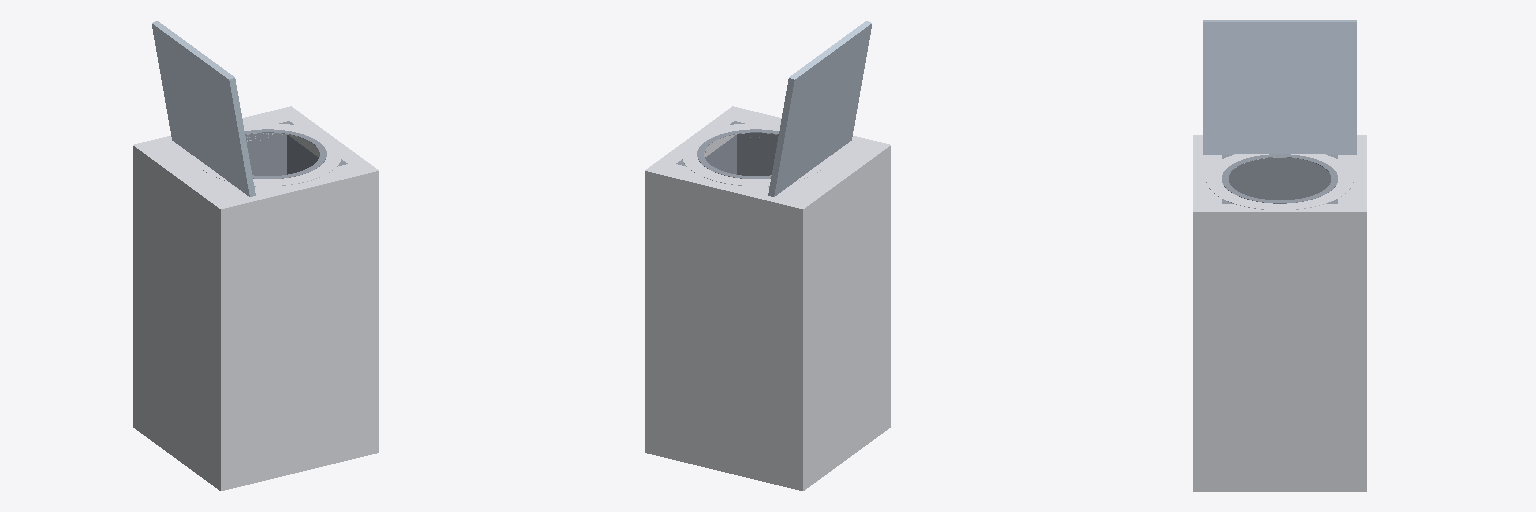
The robot description file, URDF, robot "washer":
<?xml version="1.0"?>
<!-- generated by tools/gen_washer.py; vertical washer, front=+x, lid open and fixed -->
<robot name="washer">
  <material name="body"><color rgba="0.92 0.93 0.95 1"/></material>
  <material name="panel"><color rgba="0.25 0.3 0.4 1"/></material>
  <material name="tub"><color rgba="0.65 0.68 0.72 1"/></material>
  <material name="lid"><color rgba="0.8 0.85 0.9 0.9"/></material>
  <link name="washer_body">
    <inertial><origin xyz="-0.04 0 0.45" rpy="0 0 0"/><mass value="30"/><inertia ixx="2.67525" ixy="0" ixz="0" iyy="2.72725" iyz="0" izz="1.3525"/></inertial>
    <visual><origin xyz="-0.04 0 0.15" rpy="0 0 0"/><geometry><box size="0.53 0.51 0.3"/></geometry><material name="body"/></visual>
    <collision><origin xyz="-0.04 0 0.15" rpy="0 0 0"/><geometry><box size="0.53 0.51 0.3"/></geometry></collision>
    <visual><origin xyz="0.215 0 0.6" rpy="0 0 0"/><geometry><box size="0.02 0.51 0.6"/></geometry><material name="body"/></visual>
    <collision><origin xyz="0.215 0 0.6" rpy="0 0 0"/><geometry><box size="0.02 0.51 0.6"/></geometry></collision>
    <visual><origin xyz="-0.295 0 0.6" rpy="0 0 0"/><geometry><box size="0.02 0.51 0.6"/></geometry><material name="body"/></visual>
    <collision><origin xyz="-0.295 0 0.6" rpy="0 0 0"/><geometry><box size="0.02 0.51 0.6"/></geometry></collision>
    <visual><origin xyz="-0.04 0.245 0.6" rpy="0 0 0"/><geometry><box size="0.49 0.02 0.6"/></geometry><material name="body"/></visual>
    <collision><origin xyz="-0.04 0.245 0.6" rpy="0 0 0"/><geometry><box size="0.49 0.02 0.6"/></geometry></collision>
    <visual><origin xyz="-0.04 -0.245 0.6" rpy="0 0 0"/><geometry><box size="0.49 0.02 0.6"/></geometry><material name="body"/></visual>
    <collision><origin xyz="-0.04 -0.245 0.6" rpy="0 0 0"/><geometry><box size="0.49 0.02 0.6"/></geometry></collision>
    <visual><origin xyz="0.16 0 0.6" rpy="0 0 0"/><geometry><box size="0.02 0.34 0.6"/></geometry><material name="tub"/></visual>
    <collision><origin xyz="0.16 0 0.6" rpy="0 0 0"/><geometry><box size="0.02 0.34 0.6"/></geometry></collision>
    <visual><origin xyz="-0.16 0 0.6" rpy="0 0 0"/><geometry><box size="0.02 0.34 0.6"/></geometry><material name="tub"/></visual>
    <collision><origin xyz="-0.16 0 0.6" rpy="0 0 0"/><geometry><box size="0.02 0.34 0.6"/></geometry></collision>
    <visual><origin xyz="0 0.16 0.6" rpy="0 0 0"/><geometry><box size="0.3 0.02 0.6"/></geometry><material name="tub"/></visual>
    <collision><origin xyz="0 0.16 0.6" rpy="0 0 0"/><geometry><box size="0.3 0.02 0.6"/></geometry></collision>
    <visual><origin xyz="0 -0.16 0.6" rpy="0 0 0"/><geometry><box size="0.3 0.02 0.6"/></geometry><material name="tub"/></visual>
    <collision><origin xyz="0 -0.16 0.6" rpy="0 0 0"/><geometry><box size="0.3 0.02 0.6"/></geometry></collision>
    <visual><origin xyz="0.1875 0 0.885" rpy="0 0 0"/><geometry><box size="0.075 0.51 0.03"/></geometry><material name="body"/></visual>
    <collision><origin xyz="0.1875 0 0.885" rpy="0 0 0"/><geometry><box size="0.075 0.51 0.03"/></geometry></collision>
    <visual><origin xyz="-0.2275 0 0.885" rpy="0 0 0"/><geometry><box size="0.155 0.51 0.03"/></geometry><material name="body"/></visual>
    <collision><origin xyz="-0.2275 0 0.885" rpy="0 0 0"/><geometry><box size="0.155 0.51 0.03"/></geometry></collision>
    <visual><origin xyz="0 0.2025 0.885" rpy="0 0 0"/><geometry><box size="0.3 0.105 0.03"/></geometry><material name="body"/></visual>
    <collision><origin xyz="0 0.2025 0.885" rpy="0 0 0"/><geometry><box size="0.3 0.105 0.03"/></geometry></collision>
    <visual><origin xyz="0 -0.2025 0.885" rpy="0 0 0"/><geometry><box size="0.3 0.105 0.03"/></geometry><material name="body"/></visual>
    <collision><origin xyz="0 -0.2025 0.885" rpy="0 0 0"/><geometry><box size="0.3 0.105 0.03"/></geometry></collision>
    <visual><origin xyz="0.18257 0 0.9005" rpy="0 0 0"/><geometry><box size="0.06513 0.03764 0.001"/></geometry><material name="body"/></visual>
    <visual><origin xyz="0.17979 0.0317 0.9005" rpy="0 0 0.17453"/><geometry><box size="0.06513 0.03764 0.001"/></geometry><material name="body"/></visual>
    <visual><origin xyz="0.17156 0.06244 0.9005" rpy="0 0 0.34907"/><geometry><box size="0.06513 0.03764 0.001"/></geometry><material name="body"/></visual>
    <visual><origin xyz="0.15811 0.09128 0.9005" rpy="0 0 0.5236"/><geometry><box size="0.06513 0.03764 0.001"/></geometry><material name="body"/></visual>
    <visual><origin xyz="0.13985 0.11735 0.9005" rpy="0 0 0.69813"/><geometry><box size="0.06513 0.03764 0.001"/></geometry><material name="body"/></visual>
    <visual><origin xyz="0.11735 0.13985 0.9005" rpy="0 0 0.87266"/><geometry><box size="0.06513 0.03764 0.001"/></geometry><material name="body"/></visual>
    <visual><origin xyz="0.09128 0.15811 0.9005" rpy="0 0 1.0472"/><geometry><box size="0.06513 0.03764 0.001"/></geometry><material name="body"/></visual>
    <visual><origin xyz="0.06244 0.17156 0.9005" rpy="0 0 1.22173"/><geometry><box size="0.06513 0.03764 0.001"/></geometry><material name="body"/></visual>
    <visual><origin xyz="0.0317 0.17979 0.9005" rpy="0 0 1.39626"/><geometry><box size="0.06513 0.03764 0.001"/></geometry><material name="body"/></visual>
    <visual><origin xyz="0 0.18257 0.9005" rpy="0 0 1.5708"/><geometry><box size="0.06513 0.03764 0.001"/></geometry><material name="body"/></visual>
    <visual><origin xyz="-0.0317 0.17979 0.9005" rpy="0 0 1.74533"/><geometry><box size="0.06513 0.03764 0.001"/></geometry><material name="body"/></visual>
    <visual><origin xyz="-0.06244 0.17156 0.9005" rpy="0 0 1.91986"/><geometry><box size="0.06513 0.03764 0.001"/></geometry><material name="body"/></visual>
    <visual><origin xyz="-0.09128 0.15811 0.9005" rpy="0 0 2.0944"/><geometry><box size="0.06513 0.03764 0.001"/></geometry><material name="body"/></visual>
    <visual><origin xyz="-0.11735 0.13985 0.9005" rpy="0 0 2.26893"/><geometry><box size="0.06513 0.03764 0.001"/></geometry><material name="body"/></visual>
    <visual><origin xyz="-0.13985 0.11735 0.9005" rpy="0 0 2.44346"/><geometry><box size="0.06513 0.03764 0.001"/></geometry><material name="body"/></visual>
    <visual><origin xyz="-0.15811 0.09128 0.9005" rpy="0 0 2.61799"/><geometry><box size="0.06513 0.03764 0.001"/></geometry><material name="body"/></visual>
    <visual><origin xyz="-0.17156 0.06244 0.9005" rpy="0 0 2.79253"/><geometry><box size="0.06513 0.03764 0.001"/></geometry><material name="body"/></visual>
    <visual><origin xyz="-0.17979 0.0317 0.9005" rpy="0 0 2.96706"/><geometry><box size="0.06513 0.03764 0.001"/></geometry><material name="body"/></visual>
    <visual><origin xyz="-0.18257 0 0.9005" rpy="0 0 3.14159"/><geometry><box size="0.06513 0.03764 0.001"/></geometry><material name="body"/></visual>
    <visual><origin xyz="-0.17979 -0.0317 0.9005" rpy="0 0 3.31613"/><geometry><box size="0.06513 0.03764 0.001"/></geometry><material name="body"/></visual>
    <visual><origin xyz="-0.17156 -0.06244 0.9005" rpy="0 0 3.49066"/><geometry><box size="0.06513 0.03764 0.001"/></geometry><material name="body"/></visual>
    <visual><origin xyz="-0.15811 -0.09128 0.9005" rpy="0 0 3.66519"/><geometry><box size="0.06513 0.03764 0.001"/></geometry><material name="body"/></visual>
    <visual><origin xyz="-0.13985 -0.11735 0.9005" rpy="0 0 3.83972"/><geometry><box size="0.06513 0.03764 0.001"/></geometry><material name="body"/></visual>
    <visual><origin xyz="-0.11735 -0.13985 0.9005" rpy="0 0 4.01426"/><geometry><box size="0.06513 0.03764 0.001"/></geometry><material name="body"/></visual>
    <visual><origin xyz="-0.09128 -0.15811 0.9005" rpy="0 0 4.18879"/><geometry><box size="0.06513 0.03764 0.001"/></geometry><material name="body"/></visual>
    <visual><origin xyz="-0.06244 -0.17156 0.9005" rpy="0 0 4.36332"/><geometry><box size="0.06513 0.03764 0.001"/></geometry><material name="body"/></visual>
    <visual><origin xyz="-0.0317 -0.17979 0.9005" rpy="0 0 4.53786"/><geometry><box size="0.06513 0.03764 0.001"/></geometry><material name="body"/></visual>
    <visual><origin xyz="-0 -0.18257 0.9005" rpy="0 0 4.71239"/><geometry><box size="0.06513 0.03764 0.001"/></geometry><material name="body"/></visual>
    <visual><origin xyz="0.0317 -0.17979 0.9005" rpy="0 0 4.88692"/><geometry><box size="0.06513 0.03764 0.001"/></geometry><material name="body"/></visual>
    <visual><origin xyz="0.06244 -0.17156 0.9005" rpy="0 0 5.06145"/><geometry><box size="0.06513 0.03764 0.001"/></geometry><material name="body"/></visual>
    <visual><origin xyz="0.09128 -0.15811 0.9005" rpy="0 0 5.23599"/><geometry><box size="0.06513 0.03764 0.001"/></geometry><material name="body"/></visual>
    <visual><origin xyz="0.11735 -0.13985 0.9005" rpy="0 0 5.41052"/><geometry><box size="0.06513 0.03764 0.001"/></geometry><material name="body"/></visual>
    <visual><origin xyz="0.13985 -0.11735 0.9005" rpy="0 0 5.58505"/><geometry><box size="0.06513 0.03764 0.001"/></geometry><material name="body"/></visual>
    <visual><origin xyz="0.15811 -0.09128 0.9005" rpy="0 0 5.75959"/><geometry><box size="0.06513 0.03764 0.001"/></geometry><material name="body"/></visual>
    <visual><origin xyz="0.17156 -0.06244 0.9005" rpy="0 0 5.93412"/><geometry><box size="0.06513 0.03764 0.001"/></geometry><material name="body"/></visual>
    <visual><origin xyz="0.17979 -0.0317 0.9005" rpy="0 0 6.10865"/><geometry><box size="0.06513 0.03764 0.001"/></geometry><material name="body"/></visual>
    <visual><origin xyz="0.16 0 0.9015" rpy="0 0 0"/><geometry><box size="0.02 0.02975 0.001"/></geometry><material name="tub"/></visual>
    <visual><origin xyz="0.15757 0.02778 0.9015" rpy="0 0 0.17453"/><geometry><box size="0.02 0.02975 0.001"/></geometry><material name="tub"/></visual>
    <visual><origin xyz="0.15035 0.05472 0.9015" rpy="0 0 0.34907"/><geometry><box size="0.02 0.02975 0.001"/></geometry><material name="tub"/></visual>
    <visual><origin xyz="0.13856 0.08 0.9015" rpy="0 0 0.5236"/><geometry><box size="0.02 0.02975 0.001"/></geometry><material name="tub"/></visual>
    <visual><origin xyz="0.12257 0.10285 0.9015" rpy="0 0 0.69813"/><geometry><box size="0.02 0.02975 0.001"/></geometry><material name="tub"/></visual>
    <visual><origin xyz="0.10285 0.12257 0.9015" rpy="0 0 0.87266"/><geometry><box size="0.02 0.02975 0.001"/></geometry><material name="tub"/></visual>
    <visual><origin xyz="0.08 0.13856 0.9015" rpy="0 0 1.0472"/><geometry><box size="0.02 0.02975 0.001"/></geometry><material name="tub"/></visual>
    <visual><origin xyz="0.05472 0.15035 0.9015" rpy="0 0 1.22173"/><geometry><box size="0.02 0.02975 0.001"/></geometry><material name="tub"/></visual>
    <visual><origin xyz="0.02778 0.15757 0.9015" rpy="0 0 1.39626"/><geometry><box size="0.02 0.02975 0.001"/></geometry><material name="tub"/></visual>
    <visual><origin xyz="0 0.16 0.9015" rpy="0 0 1.5708"/><geometry><box size="0.02 0.02975 0.001"/></geometry><material name="tub"/></visual>
    <visual><origin xyz="-0.02778 0.15757 0.9015" rpy="0 0 1.74533"/><geometry><box size="0.02 0.02975 0.001"/></geometry><material name="tub"/></visual>
    <visual><origin xyz="-0.05472 0.15035 0.9015" rpy="0 0 1.91986"/><geometry><box size="0.02 0.02975 0.001"/></geometry><material name="tub"/></visual>
    <visual><origin xyz="-0.08 0.13856 0.9015" rpy="0 0 2.0944"/><geometry><box size="0.02 0.02975 0.001"/></geometry><material name="tub"/></visual>
    <visual><origin xyz="-0.10285 0.12257 0.9015" rpy="0 0 2.26893"/><geometry><box size="0.02 0.02975 0.001"/></geometry><material name="tub"/></visual>
    <visual><origin xyz="-0.12257 0.10285 0.9015" rpy="0 0 2.44346"/><geometry><box size="0.02 0.02975 0.001"/></geometry><material name="tub"/></visual>
    <visual><origin xyz="-0.13856 0.08 0.9015" rpy="0 0 2.61799"/><geometry><box size="0.02 0.02975 0.001"/></geometry><material name="tub"/></visual>
    <visual><origin xyz="-0.15035 0.05472 0.9015" rpy="0 0 2.79253"/><geometry><box size="0.02 0.02975 0.001"/></geometry><material name="tub"/></visual>
    <visual><origin xyz="-0.15757 0.02778 0.9015" rpy="0 0 2.96706"/><geometry><box size="0.02 0.02975 0.001"/></geometry><material name="tub"/></visual>
    <visual><origin xyz="-0.16 0 0.9015" rpy="0 0 3.14159"/><geometry><box size="0.02 0.02975 0.001"/></geometry><material name="tub"/></visual>
    <visual><origin xyz="-0.15757 -0.02778 0.9015" rpy="0 0 3.31613"/><geometry><box size="0.02 0.02975 0.001"/></geometry><material name="tub"/></visual>
    <visual><origin xyz="-0.15035 -0.05472 0.9015" rpy="0 0 3.49066"/><geometry><box size="0.02 0.02975 0.001"/></geometry><material name="tub"/></visual>
    <visual><origin xyz="-0.13856 -0.08 0.9015" rpy="0 0 3.66519"/><geometry><box size="0.02 0.02975 0.001"/></geometry><material name="tub"/></visual>
    <visual><origin xyz="-0.12257 -0.10285 0.9015" rpy="0 0 3.83972"/><geometry><box size="0.02 0.02975 0.001"/></geometry><material name="tub"/></visual>
    <visual><origin xyz="-0.10285 -0.12257 0.9015" rpy="0 0 4.01426"/><geometry><box size="0.02 0.02975 0.001"/></geometry><material name="tub"/></visual>
    <visual><origin xyz="-0.08 -0.13856 0.9015" rpy="0 0 4.18879"/><geometry><box size="0.02 0.02975 0.001"/></geometry><material name="tub"/></visual>
    <visual><origin xyz="-0.05472 -0.15035 0.9015" rpy="0 0 4.36332"/><geometry><box size="0.02 0.02975 0.001"/></geometry><material name="tub"/></visual>
    <visual><origin xyz="-0.02778 -0.15757 0.9015" rpy="0 0 4.53786"/><geometry><box size="0.02 0.02975 0.001"/></geometry><material name="tub"/></visual>
    <visual><origin xyz="-0 -0.16 0.9015" rpy="0 0 4.71239"/><geometry><box size="0.02 0.02975 0.001"/></geometry><material name="tub"/></visual>
    <visual><origin xyz="0.02778 -0.15757 0.9015" rpy="0 0 4.88692"/><geometry><box size="0.02 0.02975 0.001"/></geometry><material name="tub"/></visual>
    <visual><origin xyz="0.05472 -0.15035 0.9015" rpy="0 0 5.06145"/><geometry><box size="0.02 0.02975 0.001"/></geometry><material name="tub"/></visual>
    <visual><origin xyz="0.08 -0.13856 0.9015" rpy="0 0 5.23599"/><geometry><box size="0.02 0.02975 0.001"/></geometry><material name="tub"/></visual>
    <visual><origin xyz="0.10285 -0.12257 0.9015" rpy="0 0 5.41052"/><geometry><box size="0.02 0.02975 0.001"/></geometry><material name="tub"/></visual>
    <visual><origin xyz="0.12257 -0.10285 0.9015" rpy="0 0 5.58505"/><geometry><box size="0.02 0.02975 0.001"/></geometry><material name="tub"/></visual>
    <visual><origin xyz="0.13856 -0.08 0.9015" rpy="0 0 5.75959"/><geometry><box size="0.02 0.02975 0.001"/></geometry><material name="tub"/></visual>
    <visual><origin xyz="0.15035 -0.05472 0.9015" rpy="0 0 5.93412"/><geometry><box size="0.02 0.02975 0.001"/></geometry><material name="tub"/></visual>
    <visual><origin xyz="0.15757 -0.02778 0.9015" rpy="0 0 6.10865"/><geometry><box size="0.02 0.02975 0.001"/></geometry><material name="tub"/></visual>
    <visual><origin xyz="0.195 0 0.83" rpy="0 0 0"/><geometry><box size="0.005 0.4 0.08"/></geometry><material name="panel"/></visual>
    <visual><origin xyz="0 0 0.3005" rpy="0 0 0"/><geometry><cylinder radius="0.15" length="0.001"/></geometry><material name="panel"/></visual>
    <collision><origin xyz="0 0 0.3" rpy="0 0 0"/><geometry><box size="0.3 0.3 0.01"/></geometry></collision>
  </link>
  <link name="lid">
    <inertial><origin xyz="0.2 0 0.01" rpy="0 0 0"/><mass value="1"/><inertia ixx="0.0169083" ixy="0" ixz="0" iyy="0.0133667" iyz="0" izz="0.0302083"/></inertial>
    <visual><origin xyz="0.2 0 0.01" rpy="0 0 0"/><geometry><box size="0.4 0.45 0.02"/></geometry><material name="lid"/></visual>
    <collision><origin xyz="0.2 0 0.01" rpy="0 0 0"/><geometry><box size="0.4 0.45 0.02"/></geometry></collision>
  </link>
  <joint name="lid_hinge" type="fixed">
    <origin xyz="-0.17 0 0.9" rpy="0 -1.74533 0"/>
    <parent link="washer_body"/>
    <child link="lid"/>
  </joint>
</robot>

--- What the picture shows (computed from the rendered views, not written in the file) ---
3 views of the same robot in one strip: view 1: azimuth 30°, elevation 25°; view 2: azimuth 150°, elevation 25°; view 3: azimuth 270°, elevation 25° (orthographic).
Model washer with 2 links and 1 joints (1 fixed), rooted at washer_body, posed all joints at 0.
Visible links, largest first — view 1: washer_body, lid; view 2: washer_body, lid; view 3: washer_body, lid.
Link boxes in pixels (left/top/right/bottom): washer_body: left=133, top=106, right=378, bottom=490; lid: left=152, top=21, right=255, bottom=196; washer_body: left=645, top=106, right=890, bottom=490; lid: left=768, top=21, right=871, bottom=196; washer_body: left=1193, top=135, right=1366, bottom=491; lid: left=1203, top=20, right=1356, bottom=154.
Bounding box of the posed robot: 0.53 × 0.51 × 1.29 m (x, y, z).
Geometry: primitives only (box / cylinder / sphere), no mesh files.
